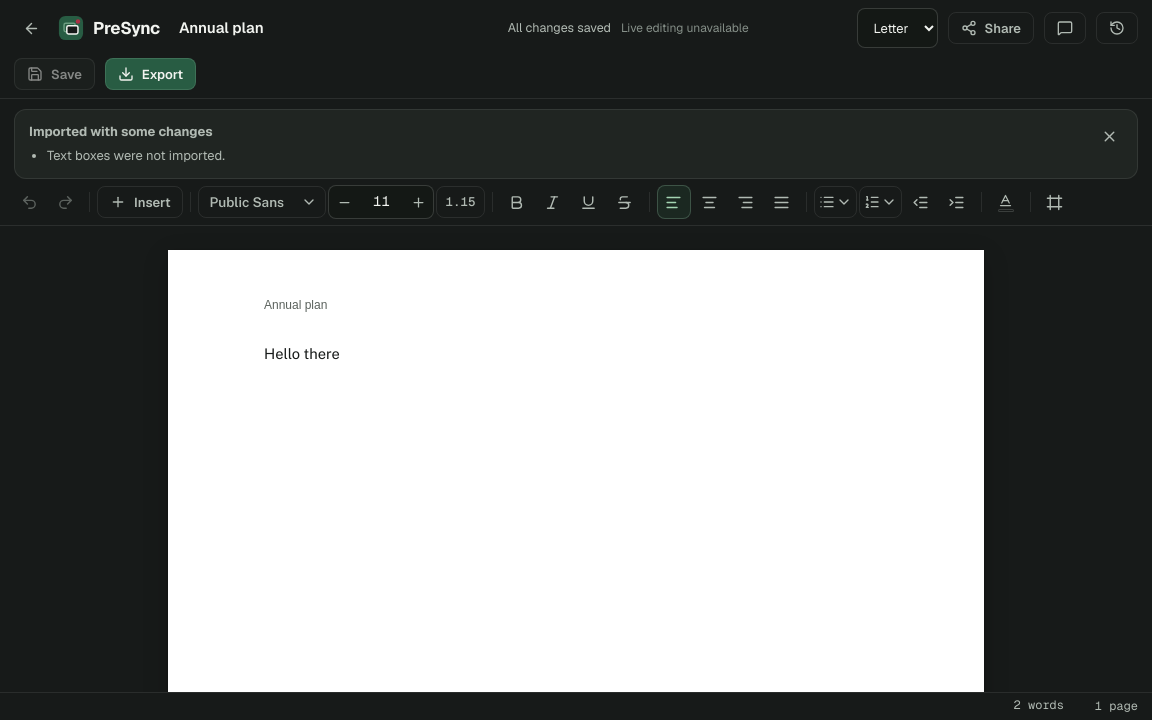
Scenario: DocumentEditorPage › shows what an import left out, until dismissed
Expected: the field named "Document title" is shown, left=170, top=10, right=498, bottom=46
Expected: the list item "Text boxes were not imported." is shown, left=47, top=146, right=225, bottom=166
Click the button named "Dismiss import notes": (1109,136) left=1095, top=122, right=1123, bottom=150
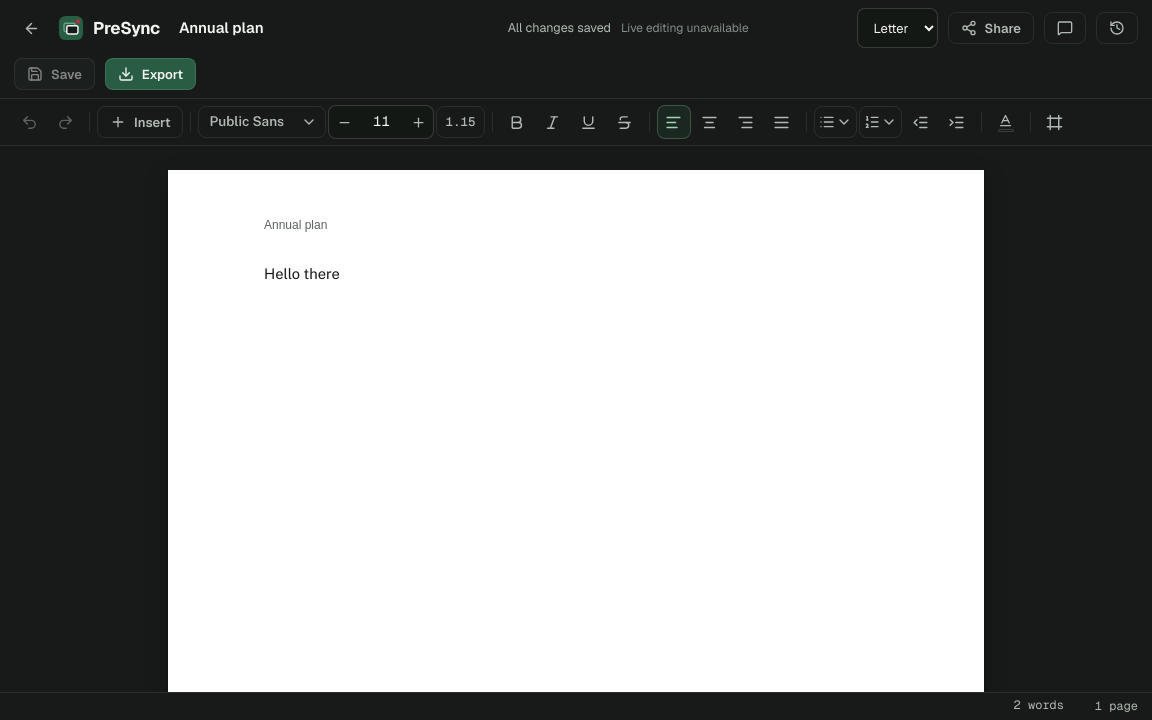
Now the list item "Text boxes were not imported." is gone
